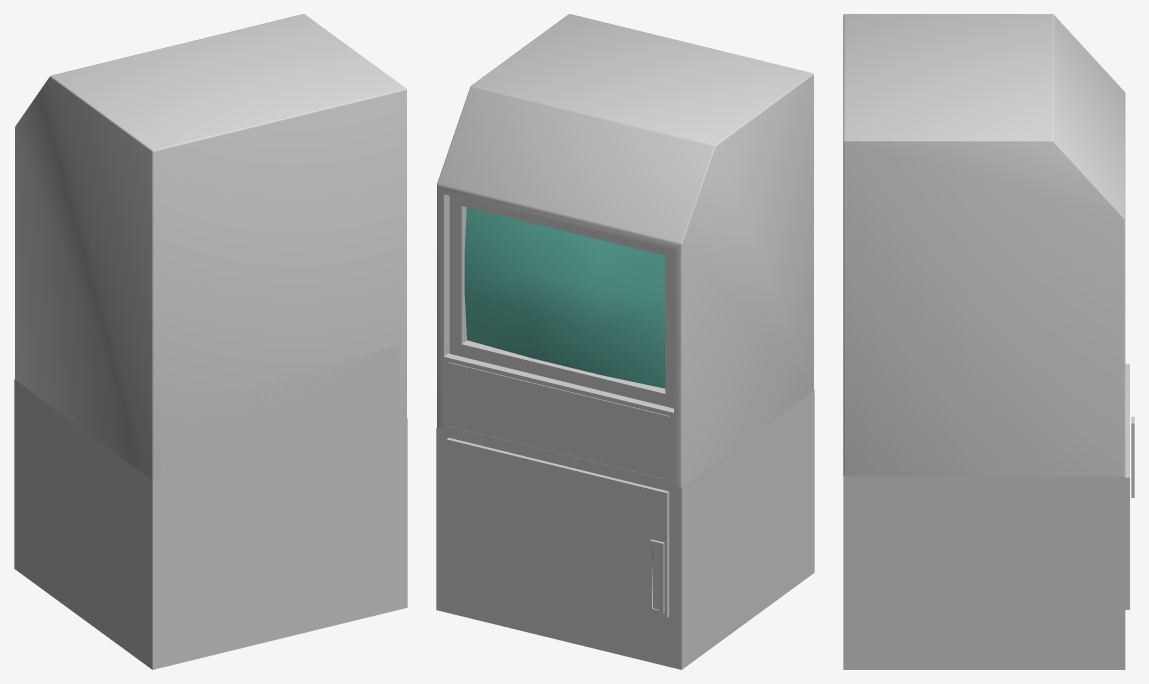
Rendered from Vendingmachine.fbx.
The picture shows the model from 3 angles, left to right: view 1: azimuth 30°, elevation 25°; view 2: azimuth 150°, elevation 25°; view 3: azimuth 270°, elevation 25°; orthographic projection. The views are drawn at different scales.
Parts seen in each view (by area): view 1: Cube.054, Cube.052, Cube.053, Cube.057; view 2: Cube.054, Cube.056, Cube.050, Cube.052, Cube.053, Cube.058, Cube.055, Cube.057, Cube.059; view 3: Cube.054, Cube.052, Cube.053, Cube.056.
Part boxes in pixels (box(x1,y1,x2,y2)): Cube.054: box(15, 14, 406, 479); Cube.052: box(14, 379, 407, 624); Cube.053: box(14, 524, 407, 669); Cube.057: box(160, 344, 399, 478); Cube.054: box(437, 14, 813, 487); Cube.056: box(446, 438, 669, 617); Cube.050: box(464, 207, 665, 388); Cube.052: box(436, 390, 814, 626); Cube.053: box(436, 529, 814, 669); Cube.058: box(448, 362, 669, 480); Cube.055: box(449, 196, 673, 408); Cube.057: box(444, 353, 673, 485); Cube.059: box(650, 539, 664, 613); Cube.054: box(843, 14, 1125, 476); Cube.052: box(843, 476, 1125, 623); Cube.053: box(843, 624, 1125, 669); Cube.056: box(1125, 363, 1129, 609).
Size of the model in its own units: 1.89 by 3.68 by 1.83.
